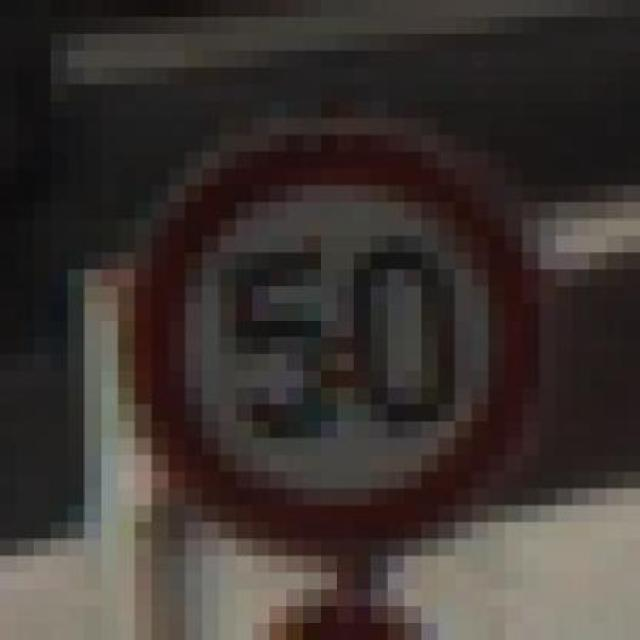50 mph speed limit: (84, 84, 590, 573)
